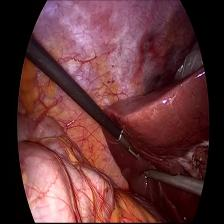Grasper: (119, 132, 144, 164)
Irrigator: (141, 165, 161, 190)
Specimen Bag: (173, 43, 205, 80)
